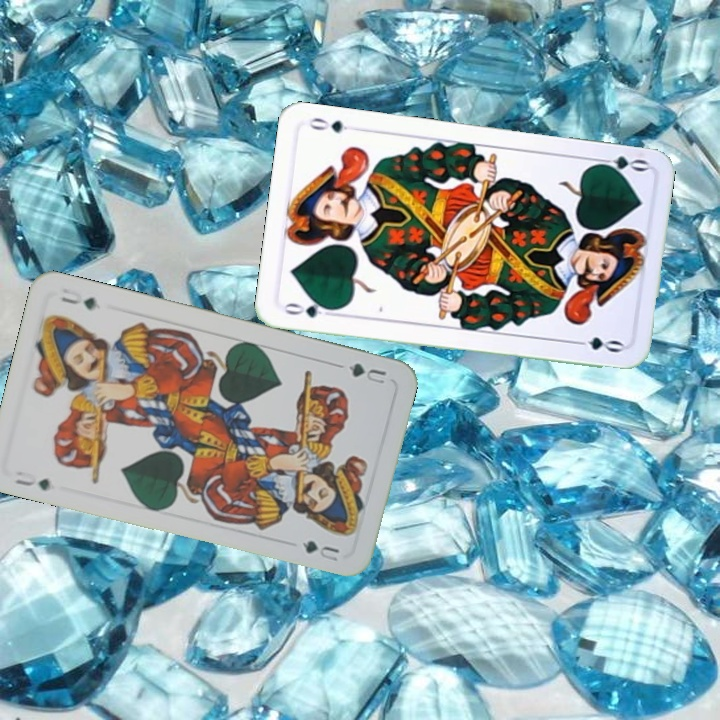GO: (590, 152, 650, 178), (279, 297, 338, 321)
GU: (334, 359, 389, 387), (11, 467, 53, 493)
